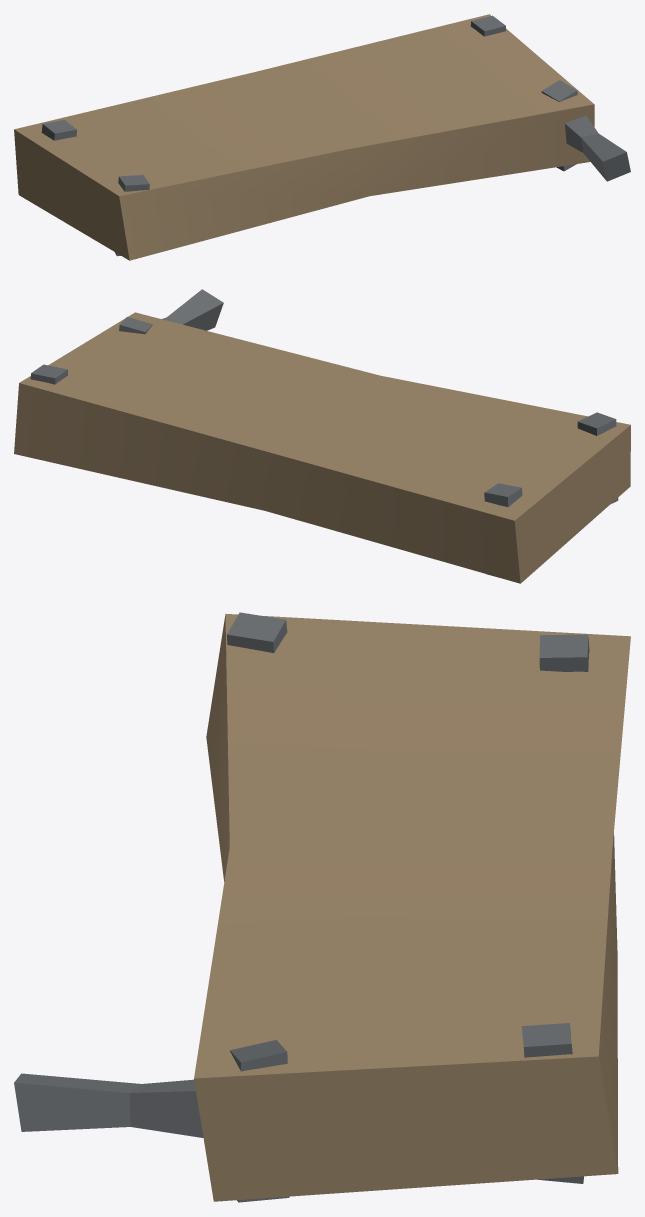
The model's file is LightWoodMechSmallWoodenBridge1.fbx.
3 views of the same model, one above another, from view 1: azimuth 30°, elevation 25°; view 2: azimuth 150°, elevation 25°; view 3: azimuth 270°, elevation 25° (orthographic). The views are drawn at different scales.
Parts seen in each view (by area): view 1: LightWoodMechSmallWoodenBridge1; view 2: LightWoodMechSmallWoodenBridge1; view 3: LightWoodMechSmallWoodenBridge1.
Boxes of the visible parts, x1,y1,x2,y2 form: LightWoodMechSmallWoodenBridge1: [14, 14, 630, 260]; LightWoodMechSmallWoodenBridge1: [14, 289, 630, 583]; LightWoodMechSmallWoodenBridge1: [14, 612, 630, 1202].
Bounding box in the file's own units: 217 × 39.72 × 129.
